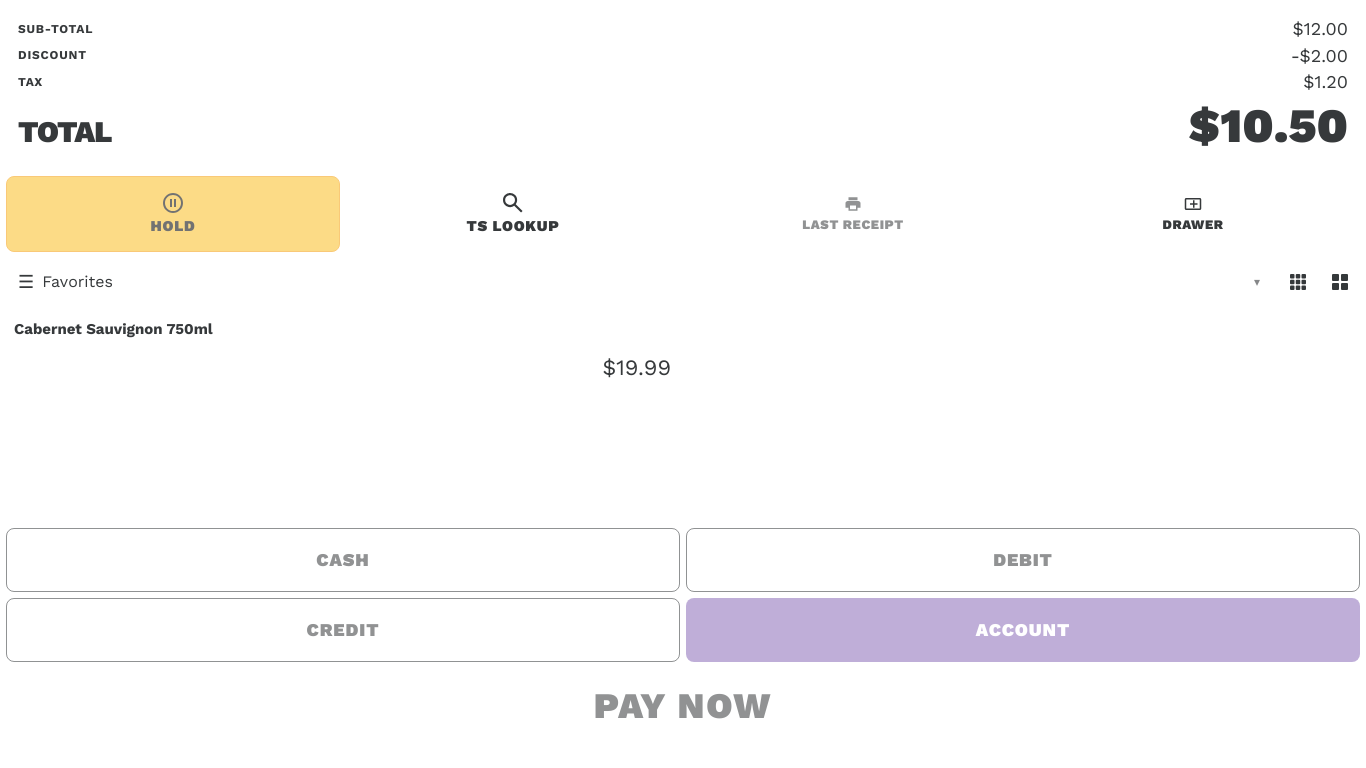
Test: ActionPanel › renders category dropdown and opens menu on click
The width and height of the screenshot is (1366, 768).
# Open the menu
Step 1. Click the button "☰ Favorites ▾" → coordinates (78, 282), box [6,260,1272,304]
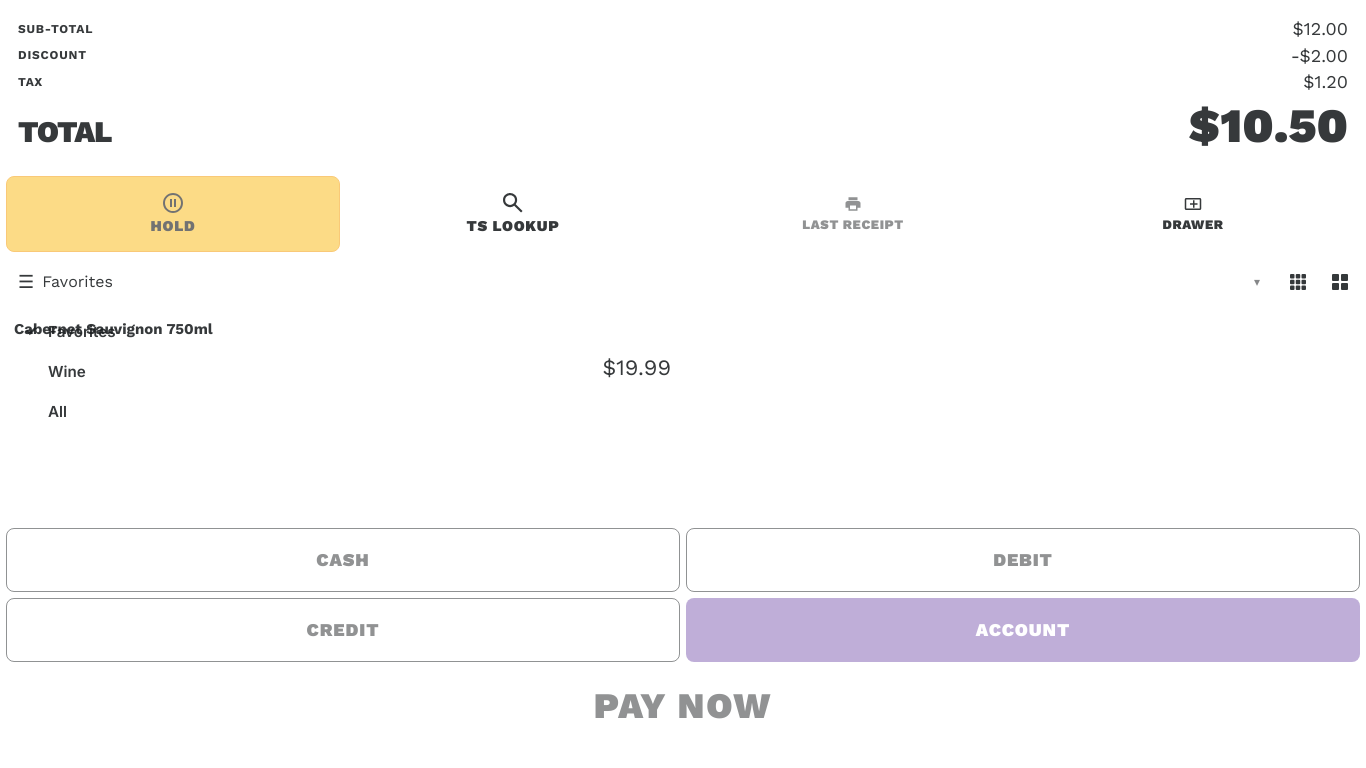
Expected: the list named "Categories" is shown, [6,308,1272,436]
Expected: the number of options is 3
Expected: the option "✓ Favorites" is shown, [10,312,1268,352]
# Clicking an option calls setActiveCategory and closes menu
Step 2. Click the option "Wine" → coordinates (67, 371), box [48,362,86,381]
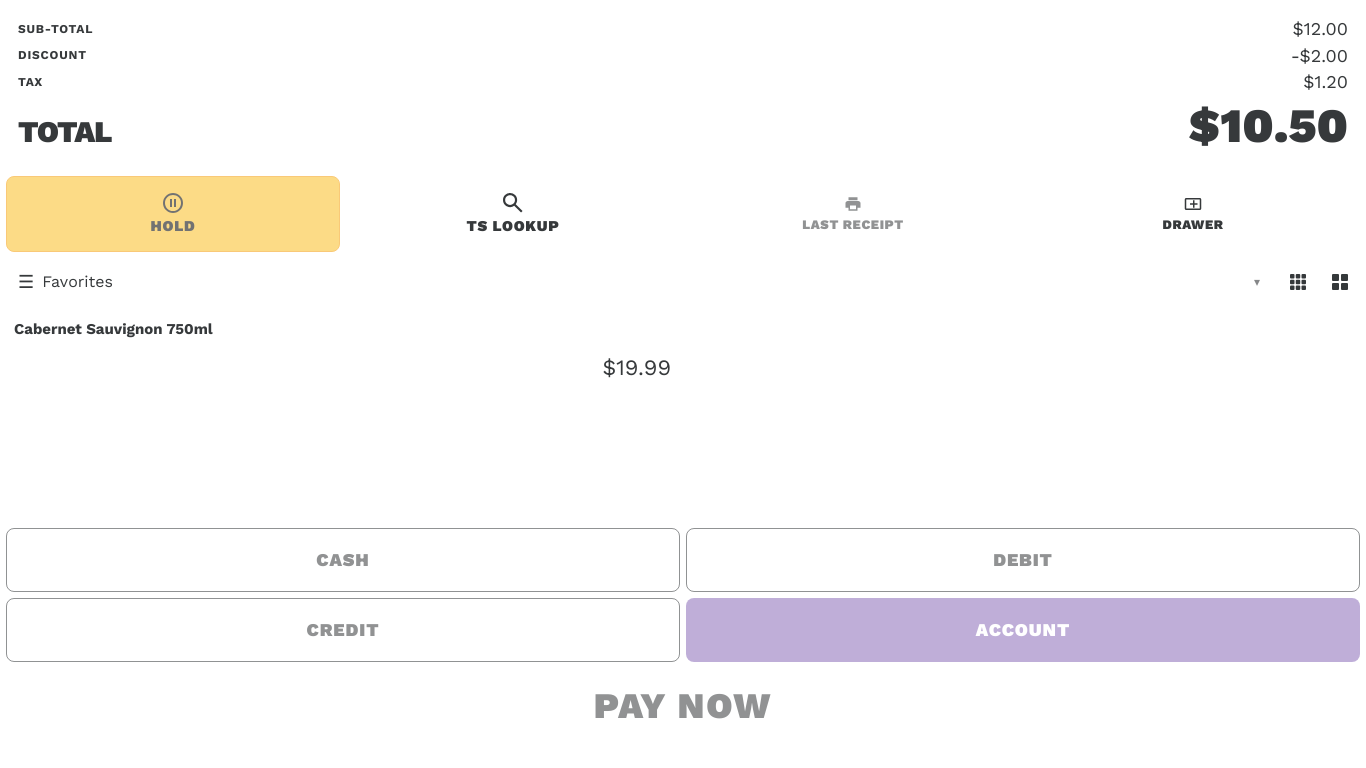
Expected: the list is gone
